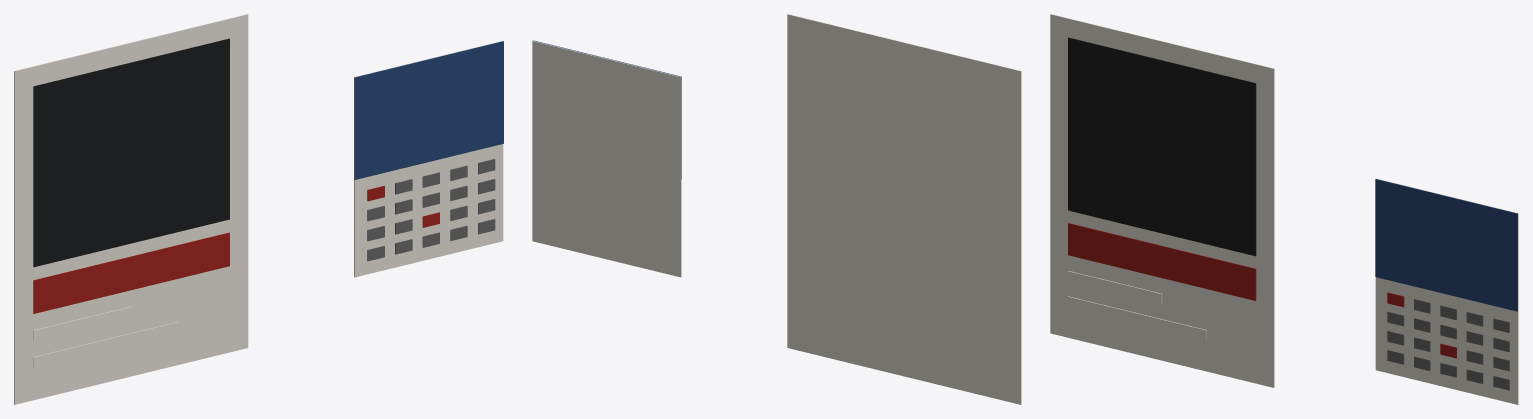
File: posters_room.glb
3 renders of one model, left to right at view 1: azimuth 30°, elevation 25°; view 2: azimuth 150°, elevation 25°; view 3: azimuth 330°, elevation 25°, orthographic. The views are drawn at different scales.
Visible parts, largest first — view 1: posters_room; view 2: posters_room; view 3: posters_room.
Part boxes in pixels (<box>): posters_room: <box>14,14,503,404</box>; posters_room: <box>532,14,1021,404</box>; posters_room: <box>1050,14,1518,404</box>.
Size of the model in its own units: 1.15 by 0.75 by 0.004.
Materials: 1 (1 with a texture image).
